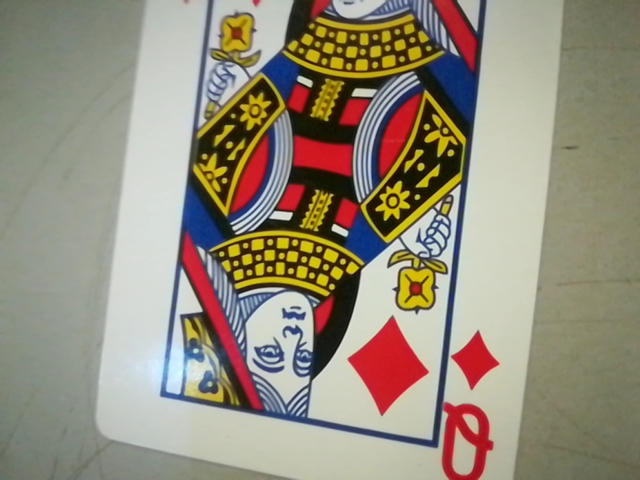fk q: (435, 327, 508, 480)
